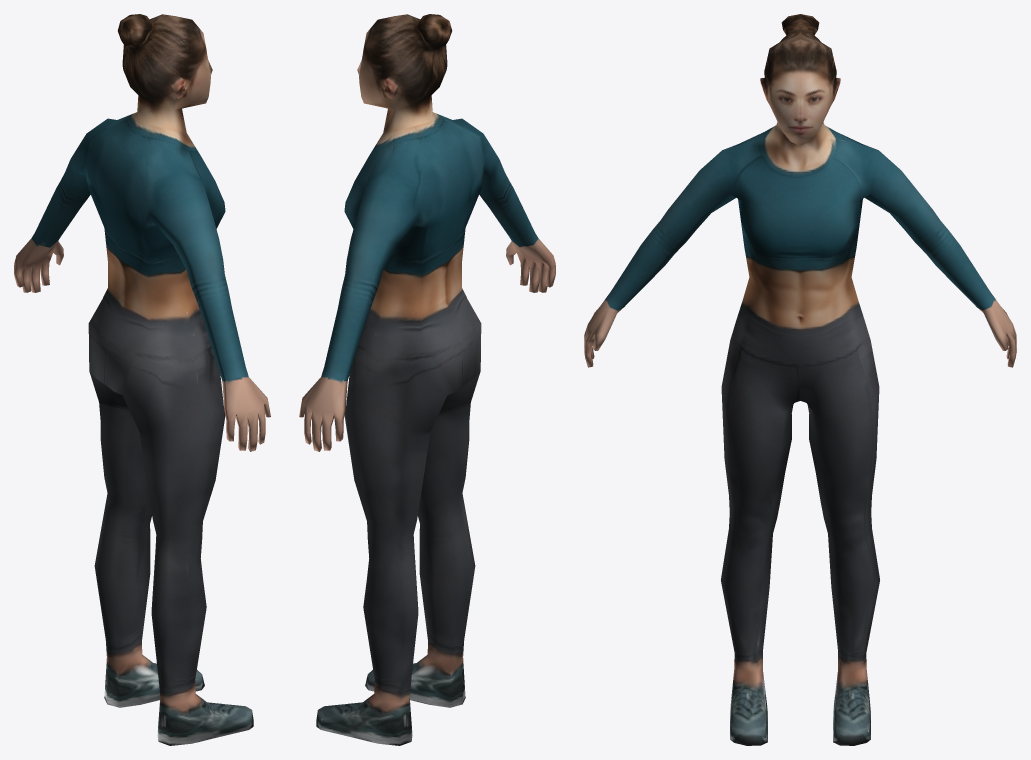
The model's file is Character_41_Female.fbx.
3 views of the same model, side by side, from view 1: azimuth 30°, elevation 25°; view 2: azimuth 150°, elevation 25°; view 3: azimuth 270°, elevation 25° (orthographic). The views are drawn at different scales.
Parts seen in each view (by area): view 1: Character_41_Female; view 2: Character_41_Female; view 3: Character_41_Female.
Part boxes in pixels (bbox=[...]): Character_41_Female: bbox=[14, 14, 270, 745]; Character_41_Female: bbox=[299, 14, 555, 745]; Character_41_Female: bbox=[584, 14, 1016, 745].
Bounding box in the file's own units: 0.2869 × 1.6 × 0.9084.
